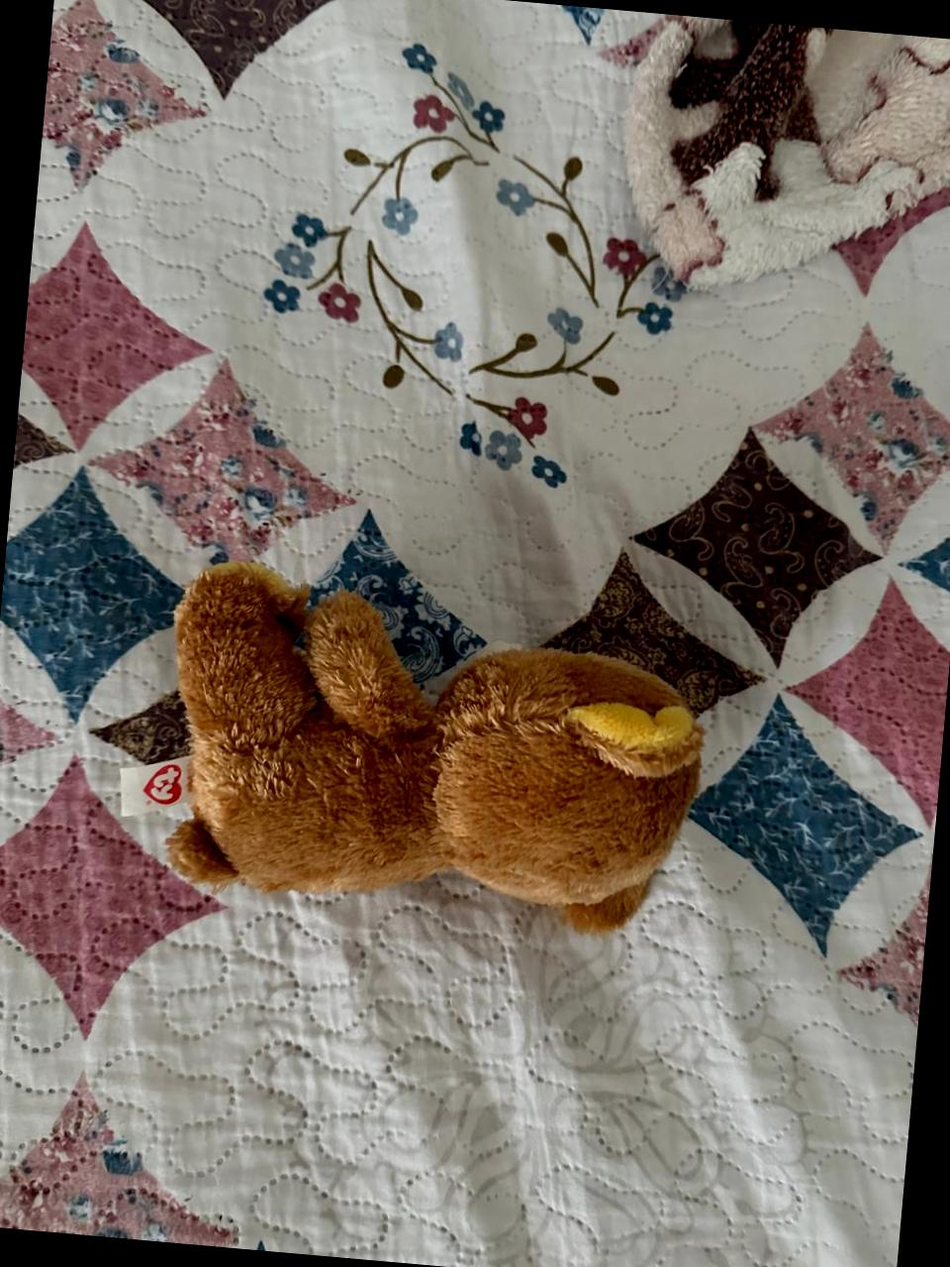peluche_sebastian: (146, 552, 719, 950)
